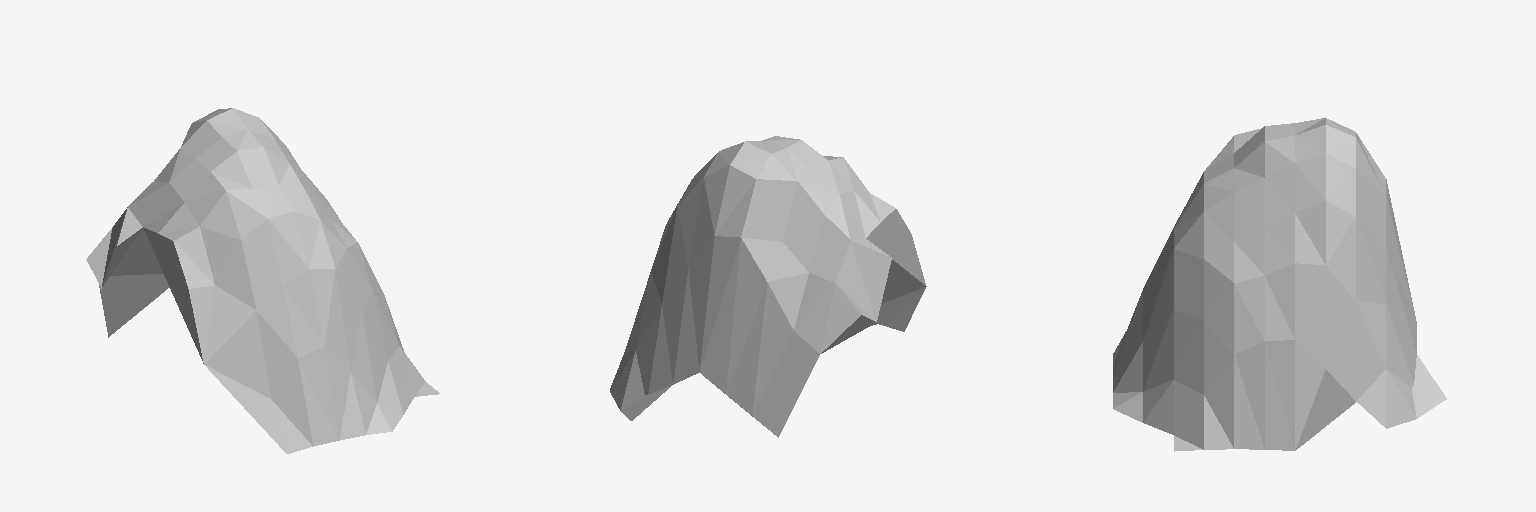
Rendered from tree_49.obj.
3 renders of one model, left to right at view 1: azimuth 30°, elevation 25°; view 2: azimuth 150°, elevation 25°; view 3: azimuth 270°, elevation 25°, orthographic.
Visible parts, largest first — view 1: tree_49.001; view 2: tree_49.001; view 3: tree_49.001.
Boxes of the visible parts, box(x1,y1,x2,y2) form: tree_49.001: box(86, 108, 439, 453); tree_49.001: box(610, 136, 926, 437); tree_49.001: box(1113, 118, 1446, 451).
Size of the model in its own units: 10 by 9.52 by 11.